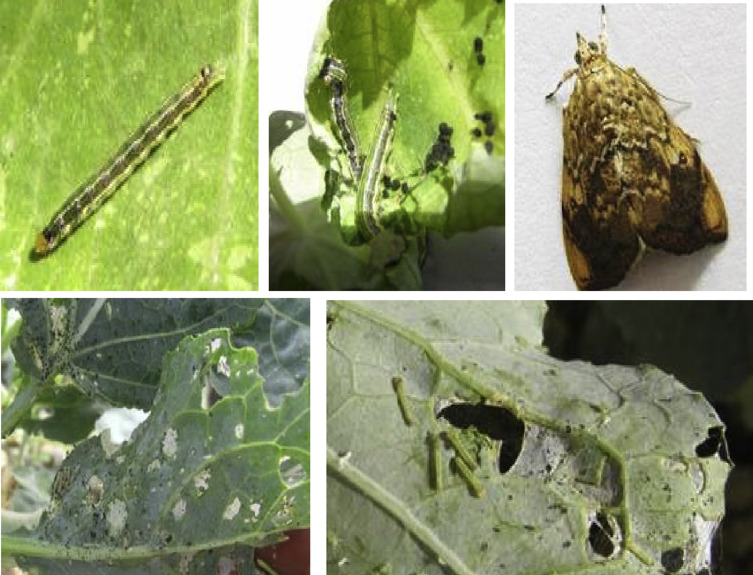Armyworm: (25, 63, 230, 266), (355, 91, 404, 249), (309, 49, 363, 191)
